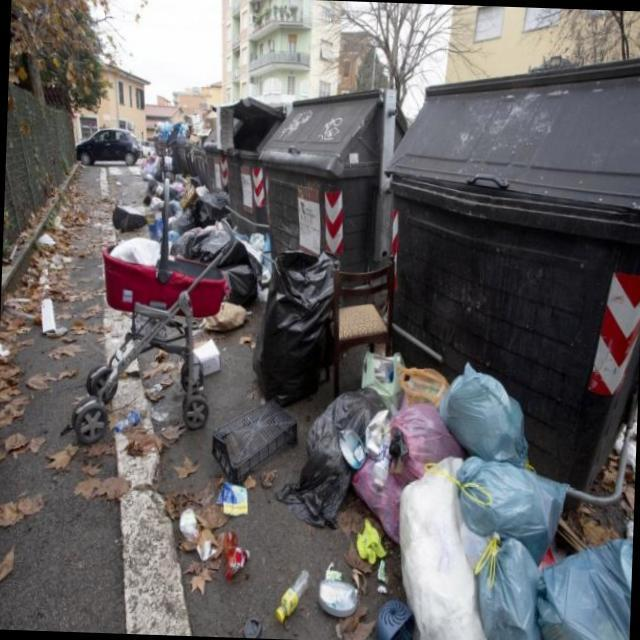garbage: (302, 349, 639, 640), (254, 236, 340, 404), (163, 162, 240, 264), (208, 477, 256, 582), (156, 92, 236, 152), (222, 224, 274, 302), (274, 560, 309, 634), (141, 152, 166, 236), (172, 497, 205, 551), (108, 199, 150, 238), (35, 285, 61, 338)
